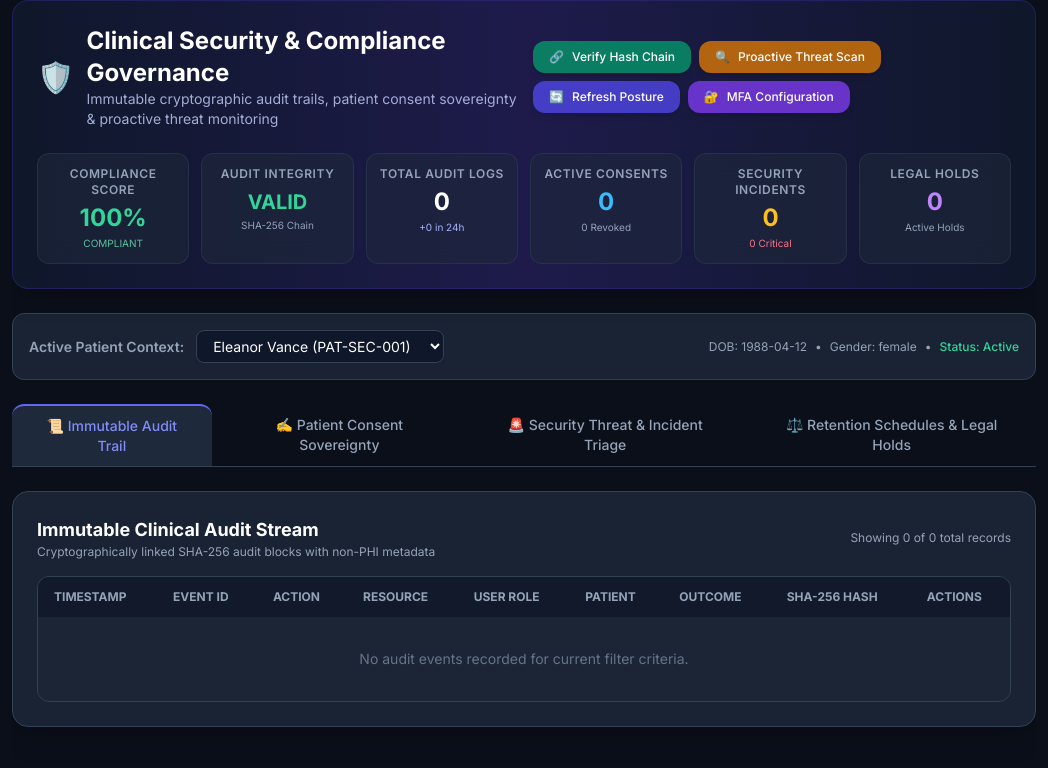
Test case: SecurityComplianceWorkspace Component › navigates to Security Incidents tab and triages incident
This screenshot has width=1048, height=768.
What coordinates should you click on to do the following:
click the button with test id "tab-incidents"
I would click on:
 (605, 435)
Its box is [467, 404, 743, 466].
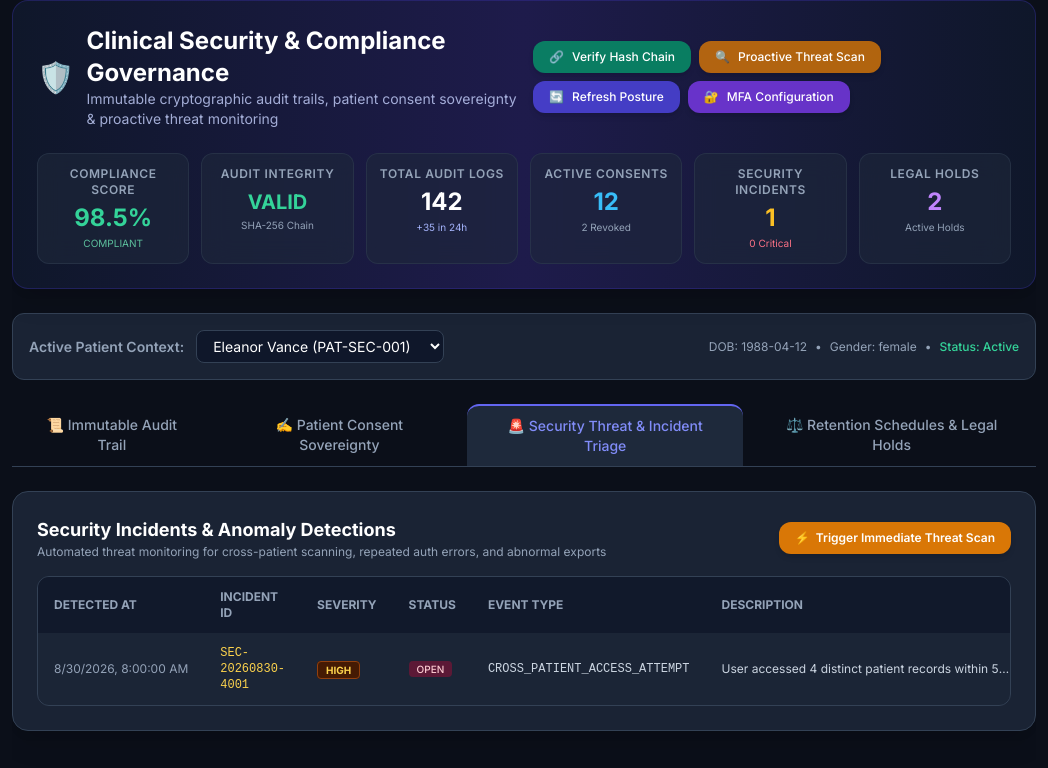
Check: the text "SEC-20260830-4001" is shown, box [204, 633, 301, 705]
Check: the text "CROSS_PATIENT_ACCESS_ATTEMPT" is shown, box [472, 633, 706, 705]
